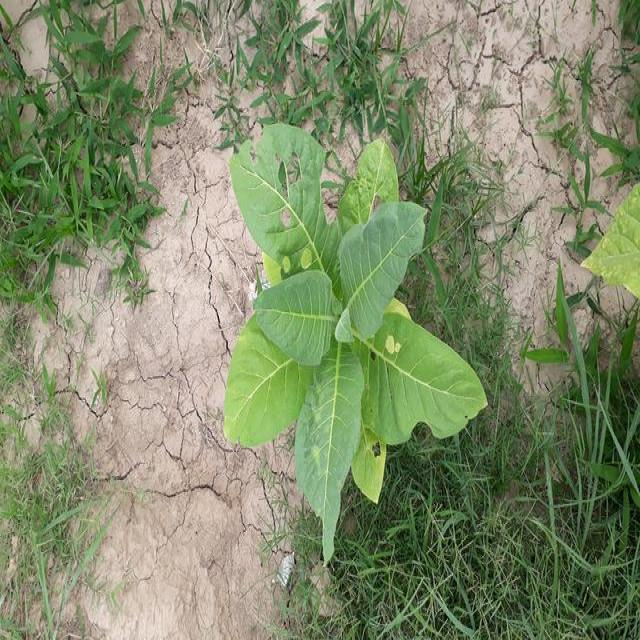crop: (213, 124, 483, 544), (588, 172, 634, 306)
